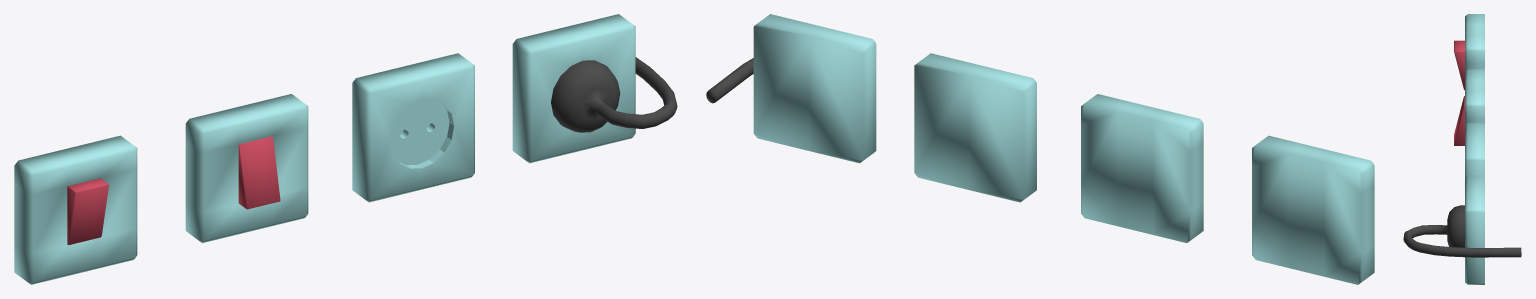
Rendered from Saklar.fbx.
3 renders of one model, left to right at view 1: azimuth 30°, elevation 25°; view 2: azimuth 150°, elevation 25°; view 3: azimuth 270°, elevation 25°, orthographic. The views are drawn at different scales.
Parts seen in each view (by area): view 1: kontak terhubung, On, Off, kontak; view 2: kontak terhubung, kontak, On, Off; view 3: kontak terhubung, Off, On, kontak.
Boxes of the visible parts, box(x1,y1,x2,y2) form: kontak terhubung: box(512, 14, 677, 163); On: box(185, 94, 308, 243); Off: box(14, 135, 137, 284); kontak: box(352, 53, 474, 202); kontak terhubung: box(706, 14, 876, 163); kontak: box(914, 53, 1036, 202); On: box(1081, 94, 1203, 242); Off: box(1252, 135, 1374, 284); kontak terhubung: box(1403, 175, 1521, 284); Off: box(1454, 14, 1484, 90); On: box(1454, 69, 1484, 145); kontak: box(1465, 123, 1484, 177).
Size of the model in its own units: 129 by 22.47 by 31.46.
